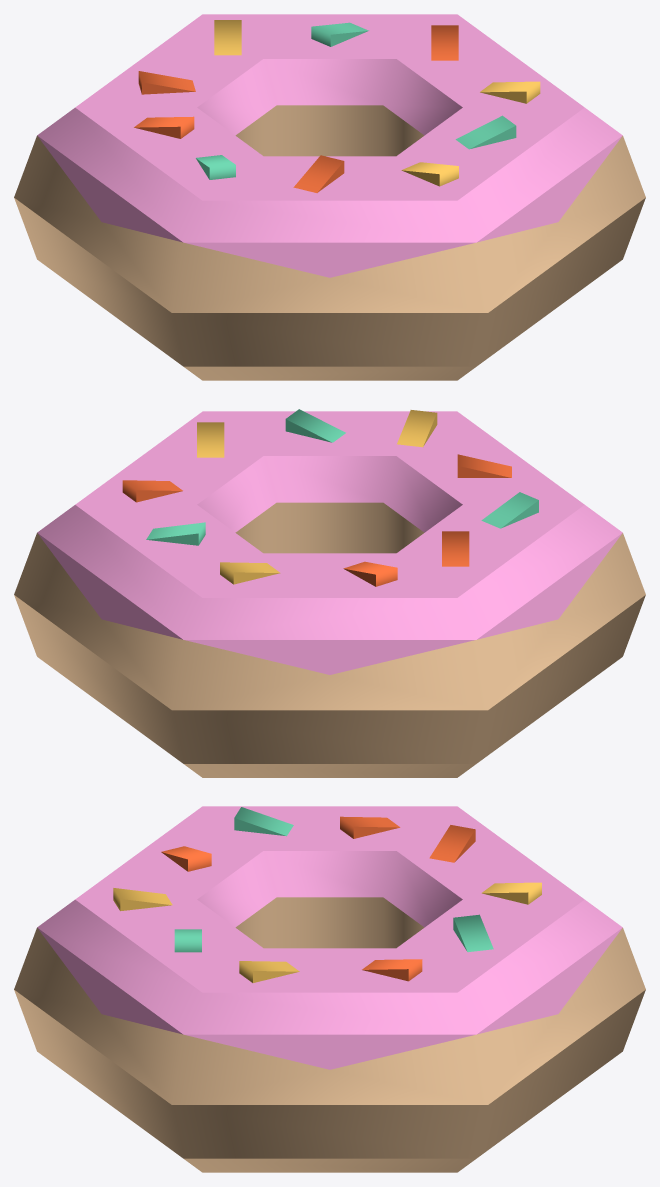
Rendered from donutSprinkles.dae.
3 views of the same model, one above another, from view 1: azimuth 30°, elevation 25°; view 2: azimuth 150°, elevation 25°; view 3: azimuth 270°, elevation 25° (orthographic).
Visible parts, largest first — view 1: donutSprinkles; view 2: donutSprinkles; view 3: donutSprinkles.
Boxes of the visible parts, box(x1,y1,x2,y2) form: donutSprinkles: box(14, 14, 645, 380); donutSprinkles: box(14, 409, 645, 777); donutSprinkles: box(14, 806, 645, 1172).
Bounding box in the file's own units: 0.2451 × 0.095 × 0.283.
